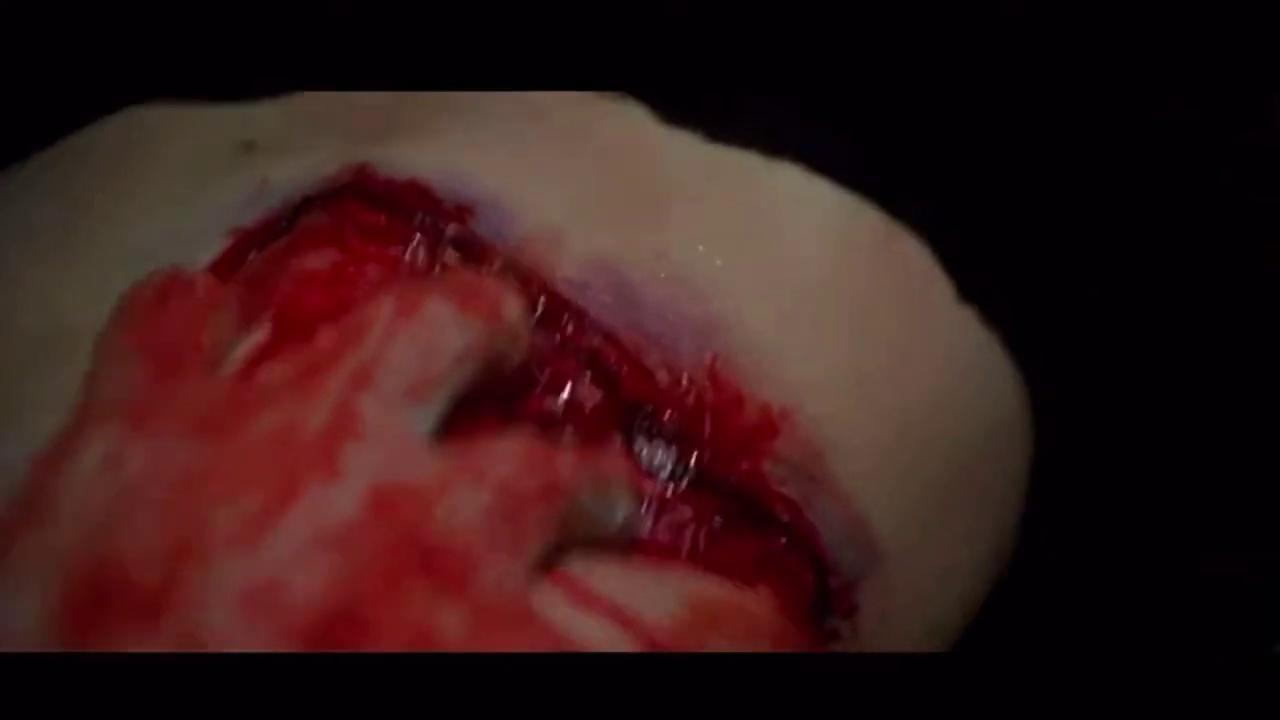Fire: (0, 164, 879, 650), (0, 166, 853, 650)
